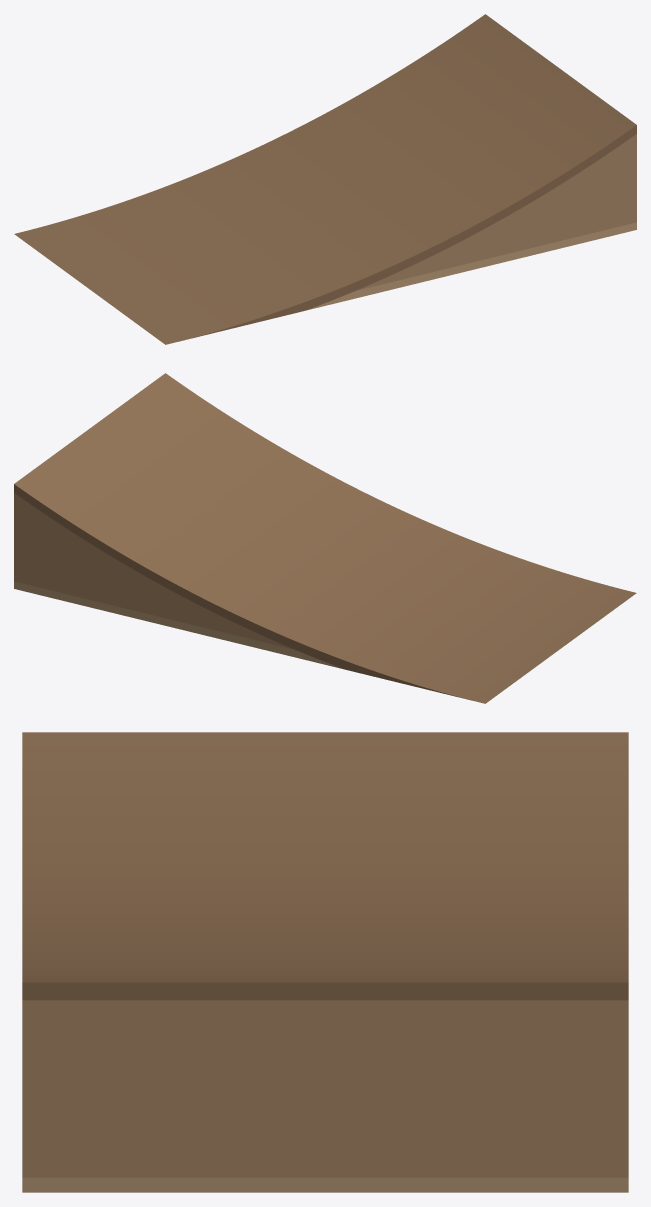
Rendered from DR_Prop_ScrubRamp.fbx.
The picture shows the model from 3 angles, top to bottom: view 1: azimuth 30°, elevation 25°; view 2: azimuth 150°, elevation 25°; view 3: azimuth 270°, elevation 25°; orthographic projection. The views are drawn at different scales.
Parts seen in each view (by area): view 1: DR_Prop_ScrubRamp; view 2: DR_Prop_ScrubRamp; view 3: DR_Prop_ScrubRamp.
Part boxes in pixels (<box>): DR_Prop_ScrubRamp: <box>14,14,636,344</box>; DR_Prop_ScrubRamp: <box>14,373,636,703</box>; DR_Prop_ScrubRamp: <box>22,732,628,1192</box>.
Size of the model in its own units: 1.98 by 0.42 by 1.1.
